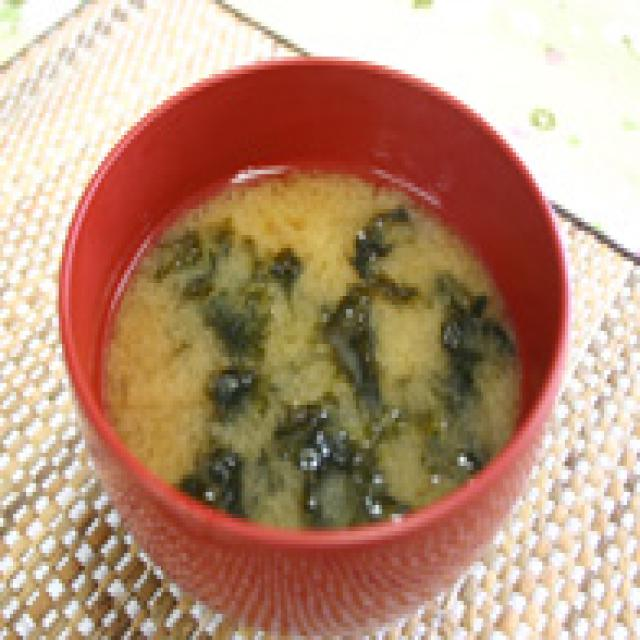汤锅炖物: (43, 43, 568, 622)
